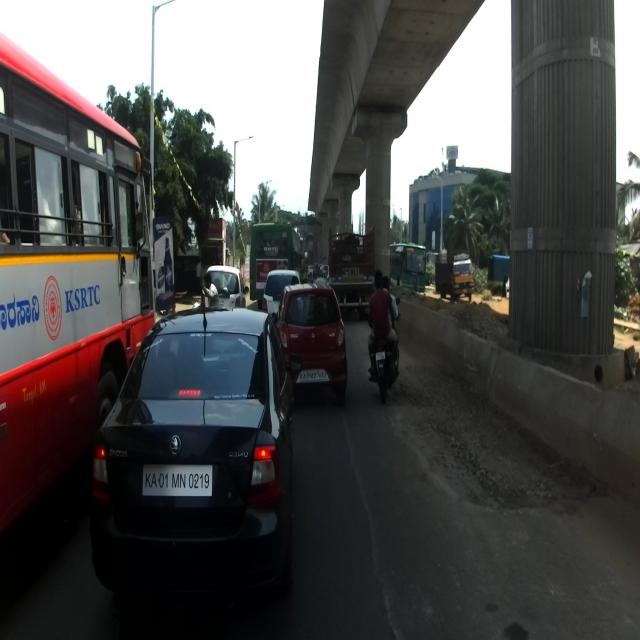bus: (0, 29, 157, 563)
car: (88, 292, 305, 621), (272, 282, 347, 406), (198, 264, 245, 307)
motorcycle: (364, 296, 401, 402)
truck: (434, 248, 474, 300)
